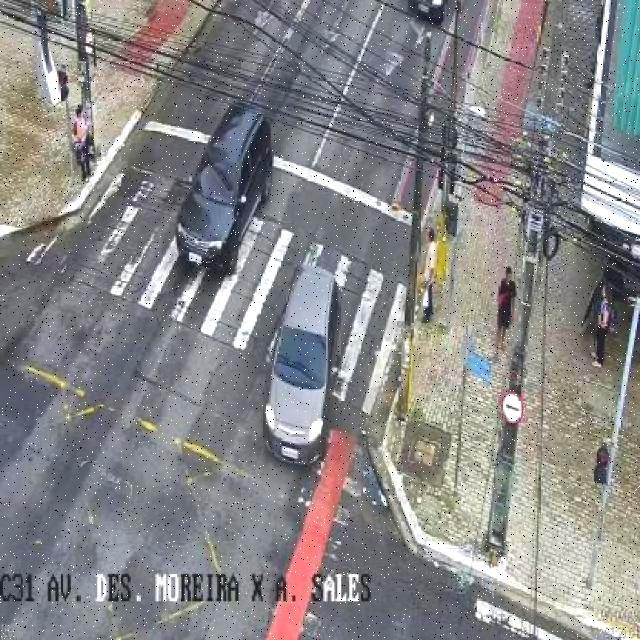Car: (173, 105, 274, 278), (262, 269, 342, 472)
